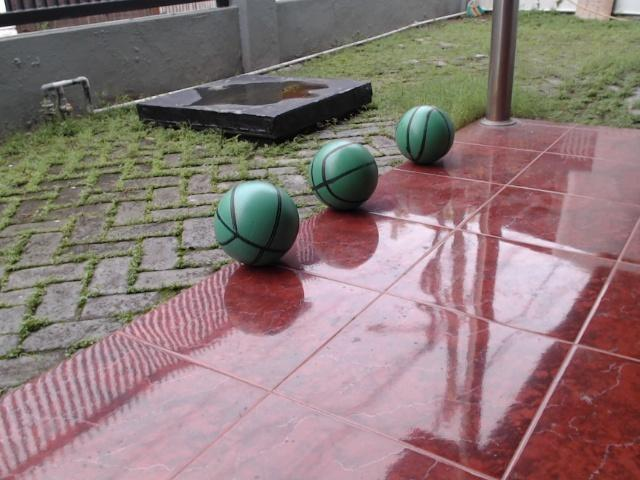Sports-Ball: (212, 180, 300, 277), (310, 134, 373, 216), (395, 99, 453, 166)
